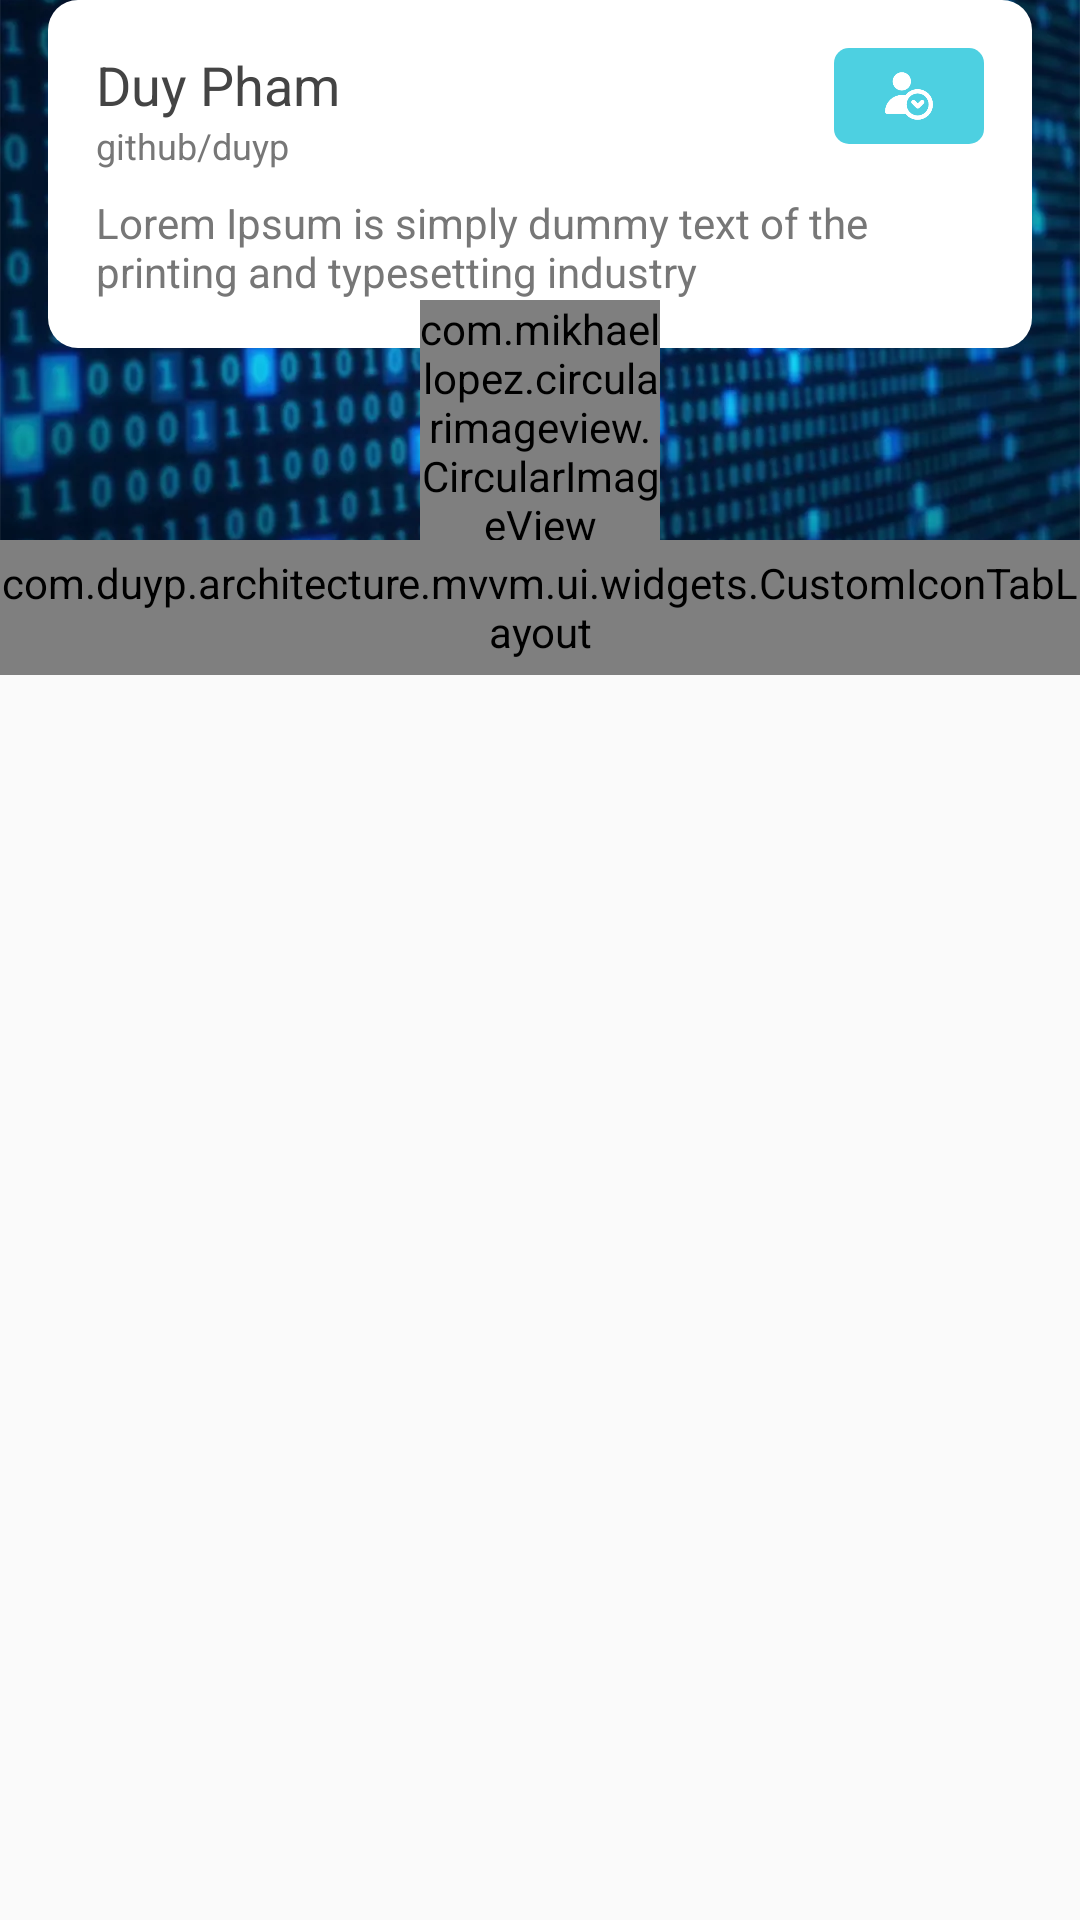

Icon bounding boxes for this 1080*1920 phone screenshot, format (x1, y1, x2, y2):
followed: (834, 48, 984, 144)
